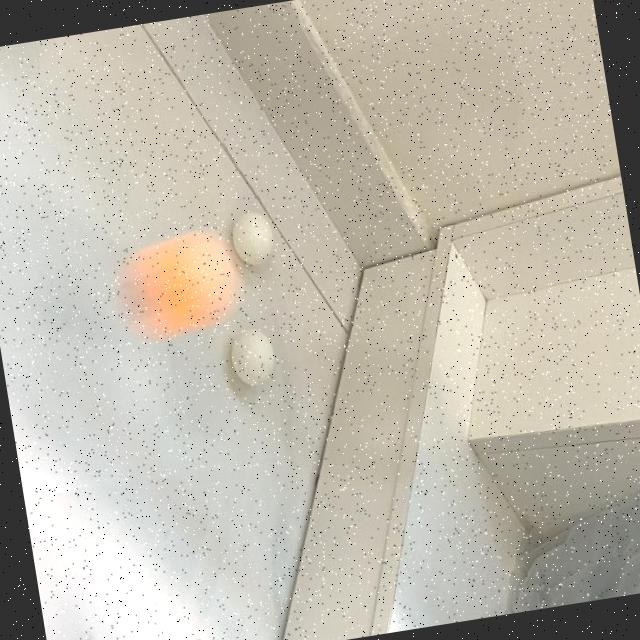ping-pong-ball: (121, 232, 226, 328), (227, 324, 277, 384), (229, 206, 277, 266)
